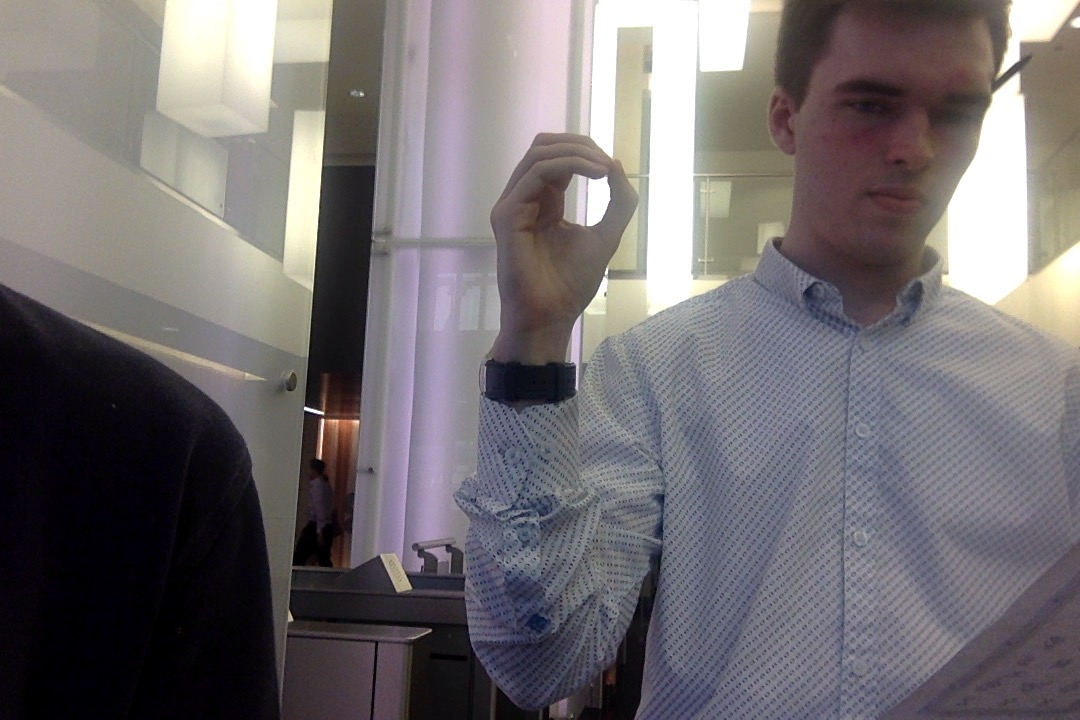o: (483, 127, 646, 335)
